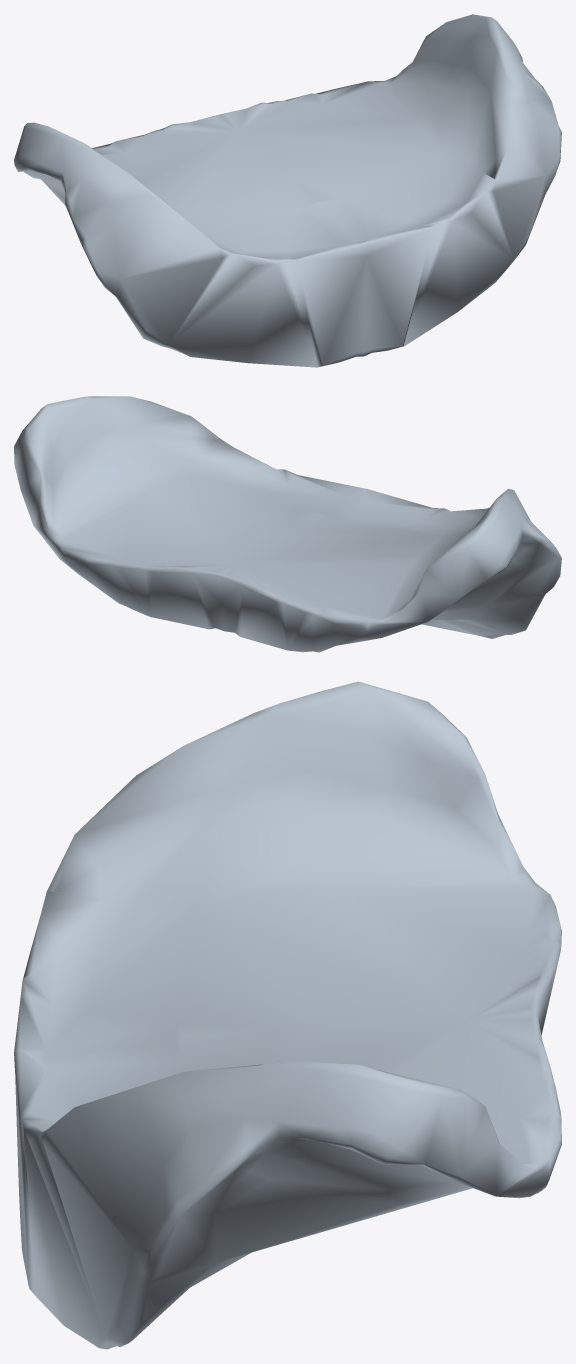
The model's file is intervertebral-disc-c4-c5.glb.
3 views of the same model, one above another, from view 1: azimuth 30°, elevation 25°; view 2: azimuth 150°, elevation 25°; view 3: azimuth 270°, elevation 25° (orthographic). The views are drawn at different scales.
Parts seen in each view (by area): view 1: Intervertebral disc C4-C5; view 2: Intervertebral disc C4-C5; view 3: Intervertebral disc C4-C5.
Part boxes in pixels (x1,y1,x2,y2): Intervertebral disc C4-C5: (14, 14, 561, 367); Intervertebral disc C4-C5: (14, 396, 561, 652); Intervertebral disc C4-C5: (14, 681, 561, 1349).
Bounding box in the file's own units: 0.0273 × 0.0116 × 0.015.
